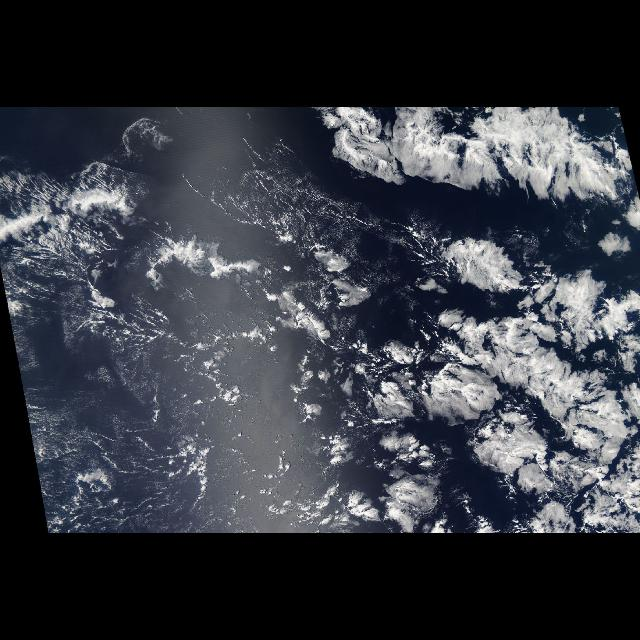Fish: (425, 301, 639, 463)
Flower: (400, 204, 552, 318)
Gravel: (0, 171, 150, 317)
Sugar: (5, 286, 239, 532), (188, 144, 374, 260)
